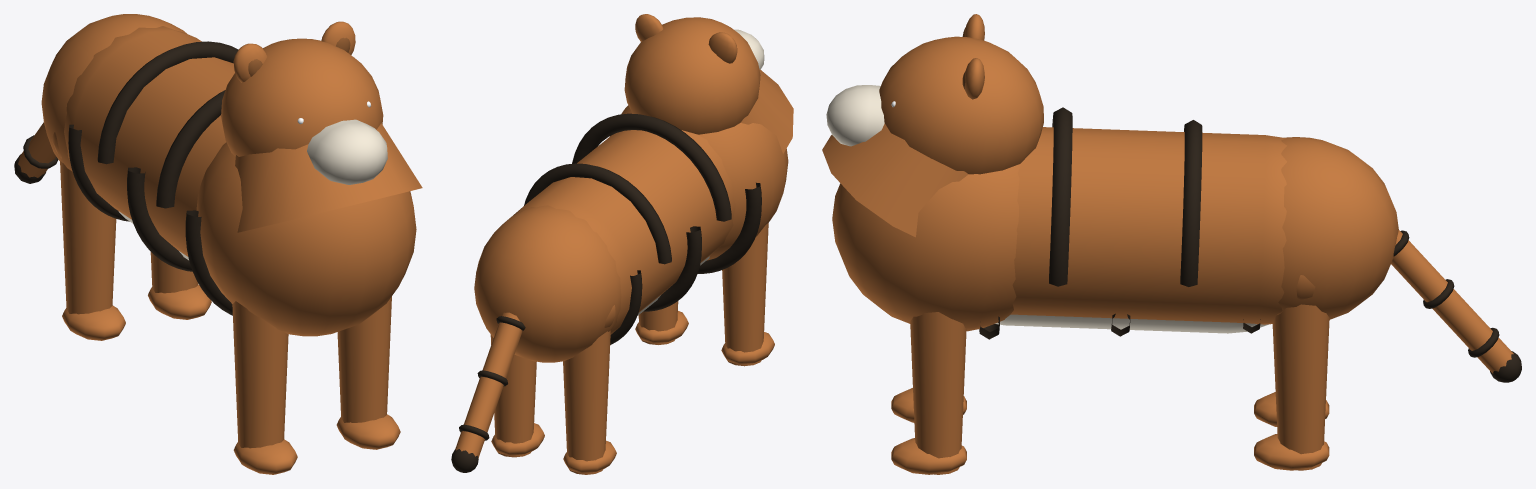
The model's file is h01-harimau.glb.
3 views of the same model, side by side, from view 1: azimuth 30°, elevation 25°; view 2: azimuth 150°, elevation 25°; view 3: azimuth 270°, elevation 25° (orthographic). The views are drawn at different scales.
Visible parts, largest first — view 1: Harimau, head, neck; view 2: Harimau, head, neck; view 3: Harimau, head, neck.
Part boxes in pixels (x1,y1,x2,y2): Harimau: [14, 14, 416, 474]; head: [221, 21, 387, 184]; neck: [235, 123, 422, 232]; Harimau: [451, 105, 788, 474]; head: [624, 14, 764, 134]; neck: [740, 69, 793, 153]; Harimau: [832, 107, 1521, 474]; head: [826, 14, 1043, 174]; neck: [822, 123, 968, 237].
Bounding box in the file's own units: 0.4768 × 0.944 × 1.47.
